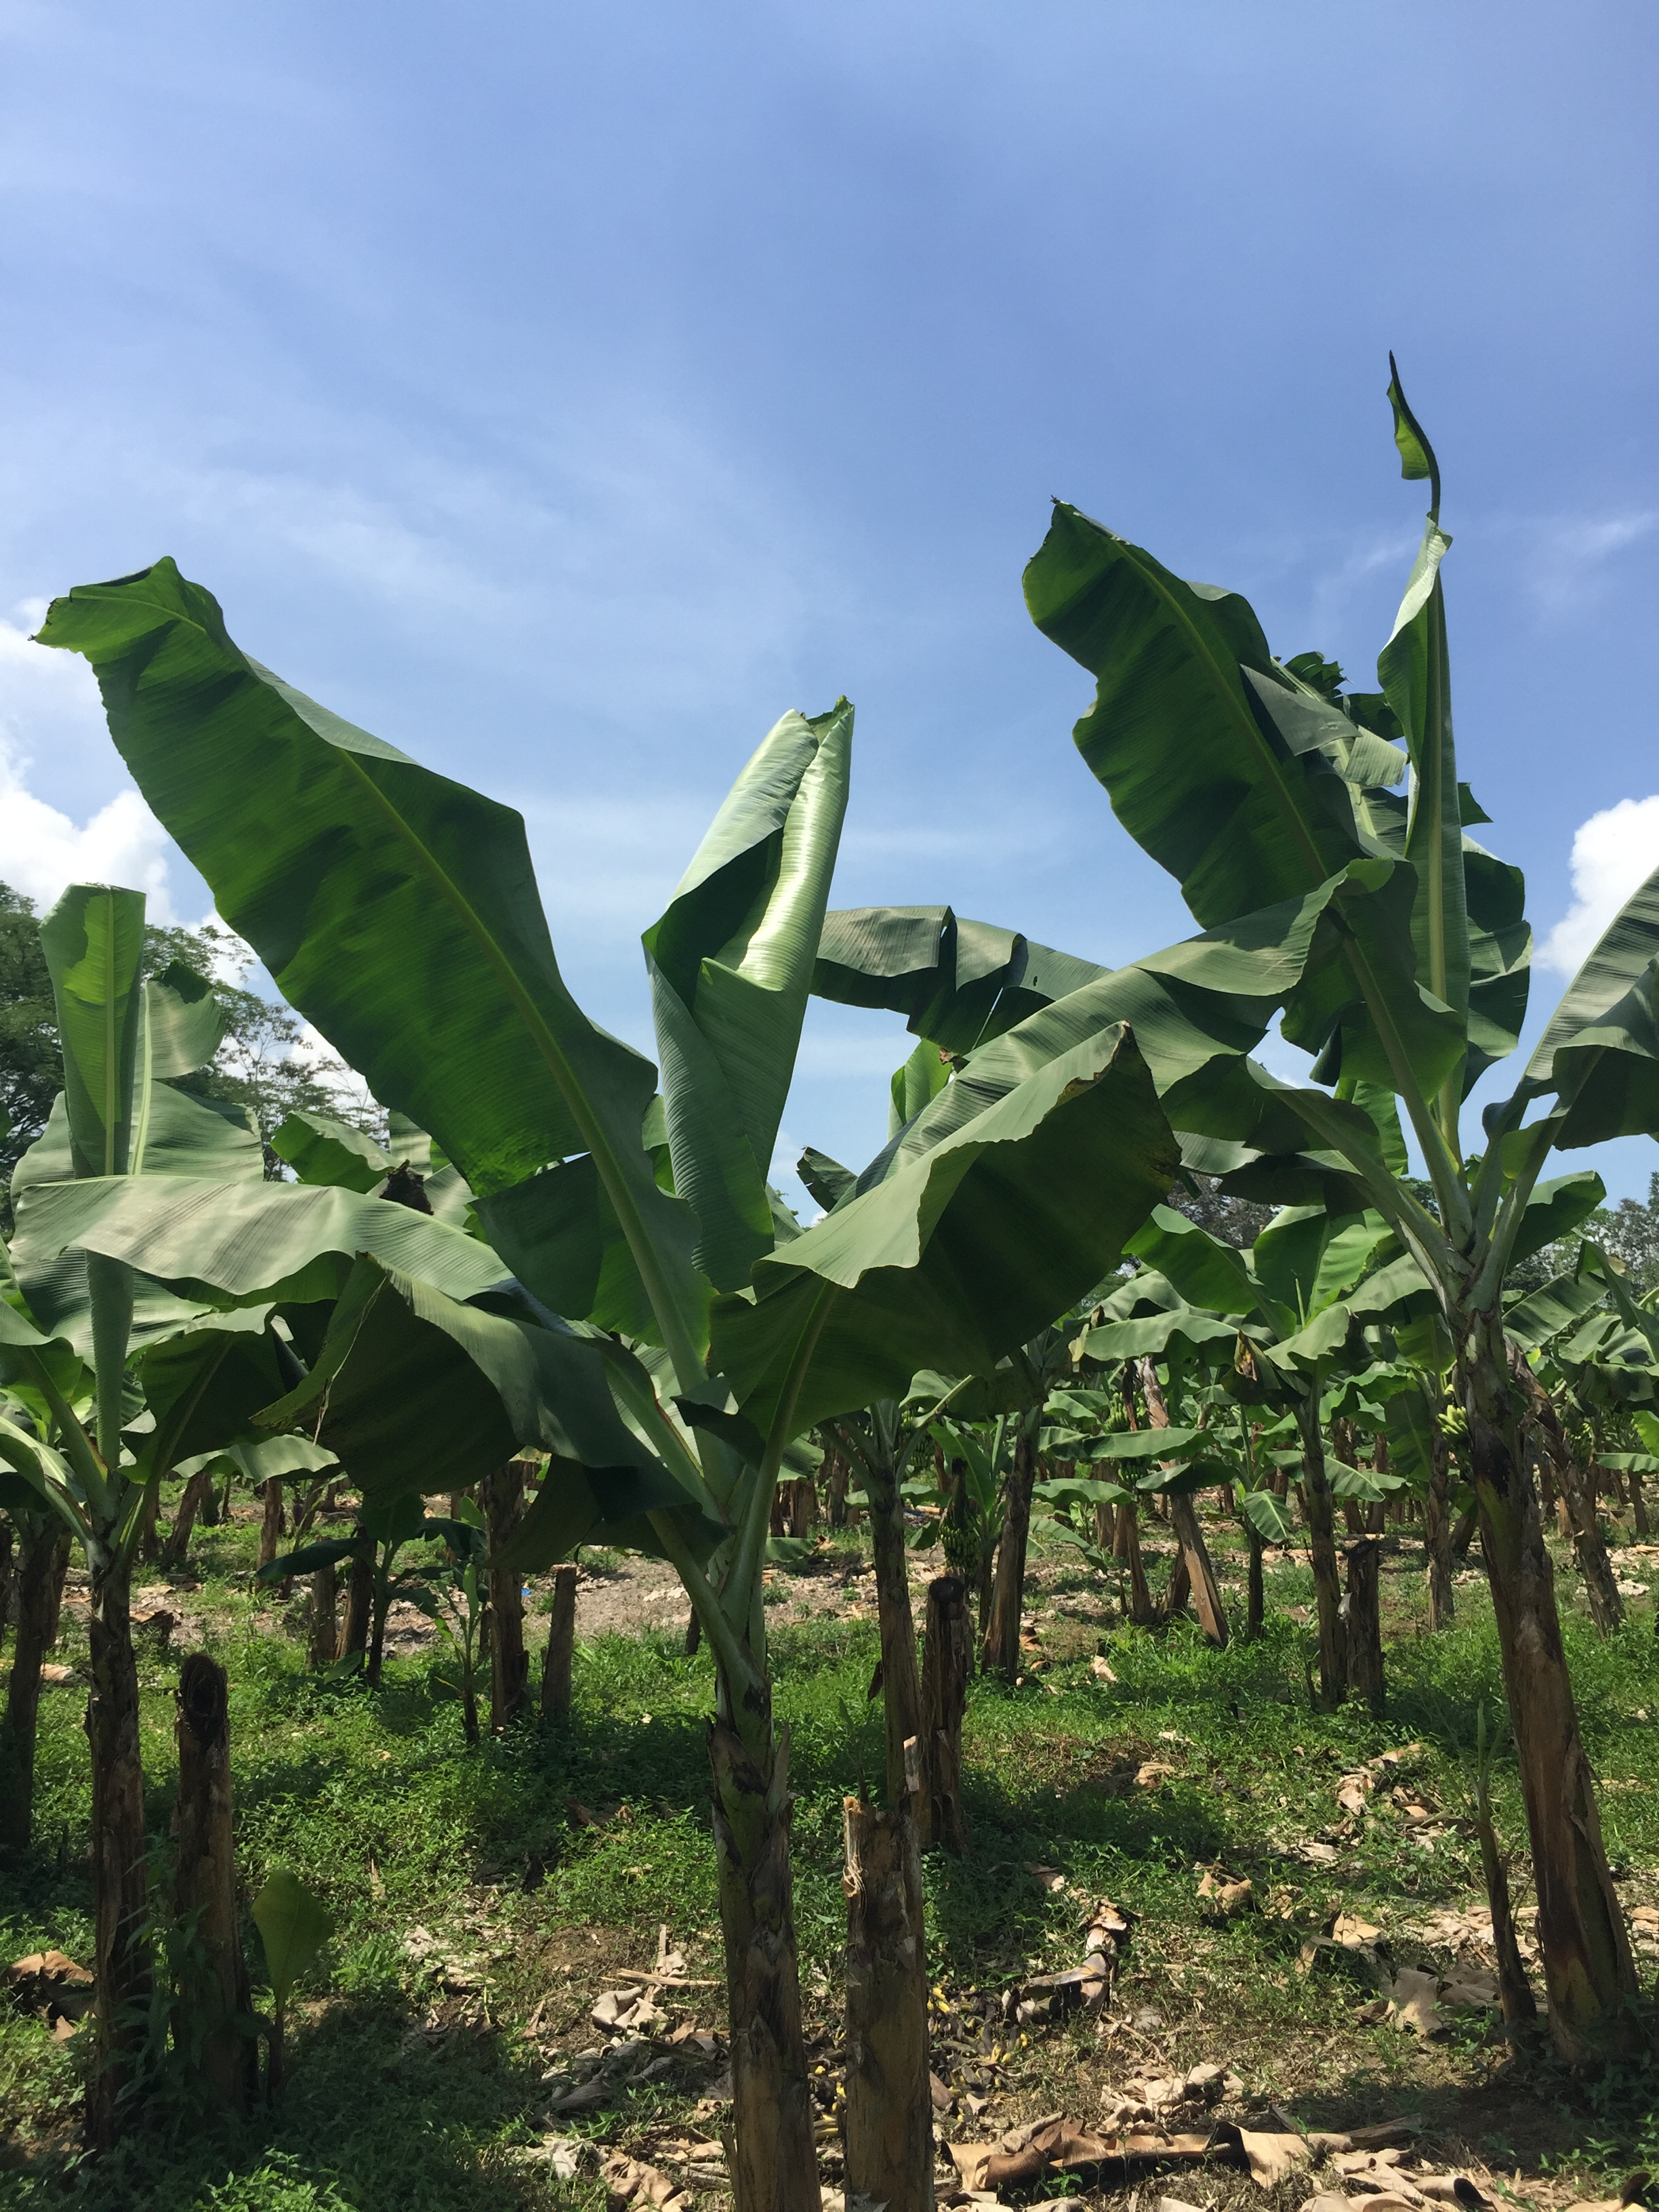candleleafs: (1387, 348, 1469, 1007)
